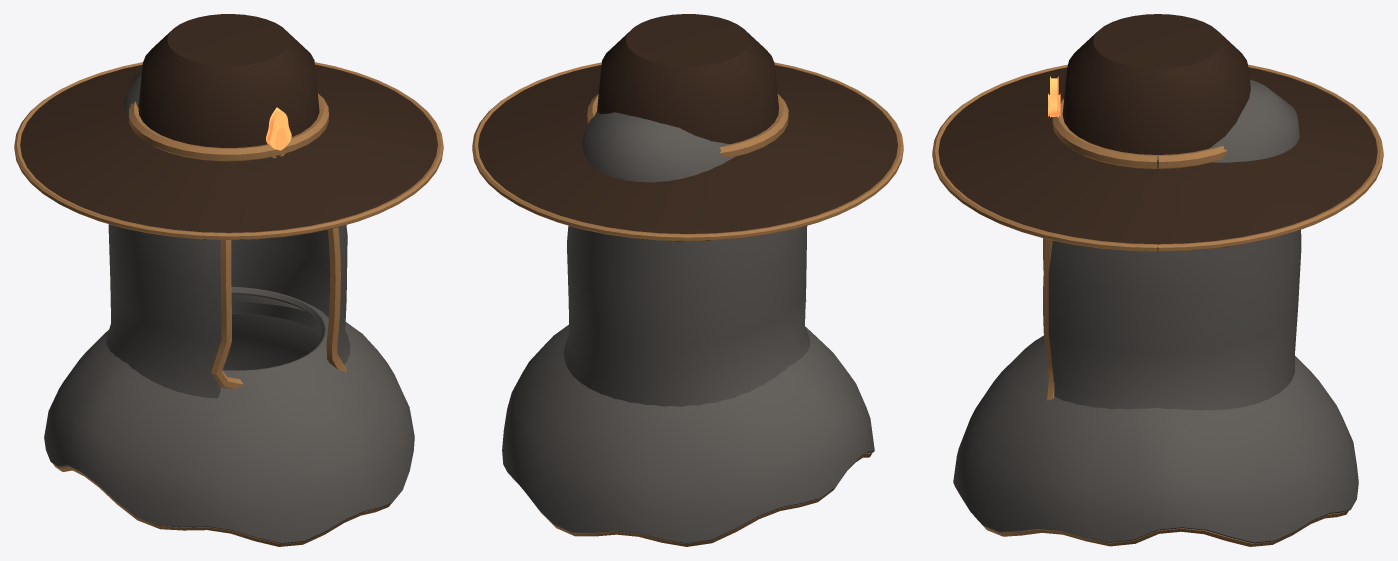
Rendered from boss_ashfall_pilgrim_helm.glb.
The picture shows the model from 3 angles, left to right: view 1: azimuth 30°, elevation 25°; view 2: azimuth 150°, elevation 25°; view 3: azimuth 270°, elevation 25°; orthographic projection. The views are drawn at different scales.
Visible parts, largest first — view 1: boss_ashfall_pilgrim_helm; view 2: boss_ashfall_pilgrim_helm; view 3: boss_ashfall_pilgrim_helm.
Part boxes in pixels (box(x1,y1,x2,y2)): boss_ashfall_pilgrim_helm: box(14, 14, 443, 546); boss_ashfall_pilgrim_helm: box(472, 14, 903, 546); boss_ashfall_pilgrim_helm: box(932, 14, 1383, 546).
Size of the model in its own units: 0.6968 by 0.7768 by 0.6968.
